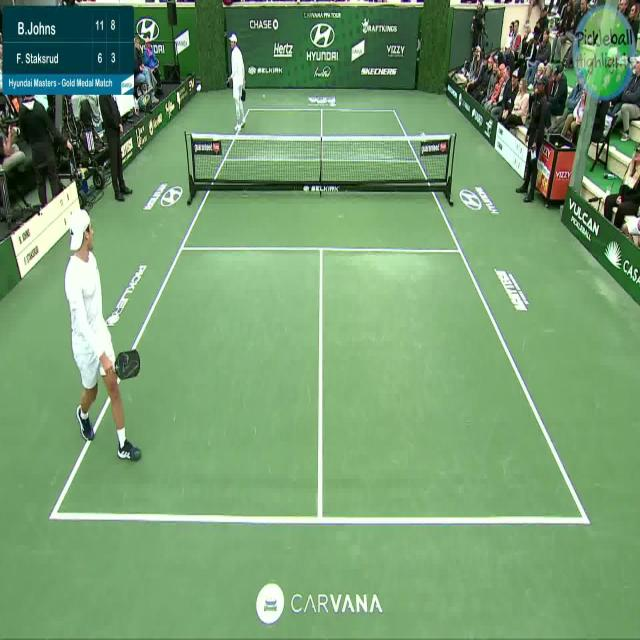ball: (261, 92, 266, 100)
